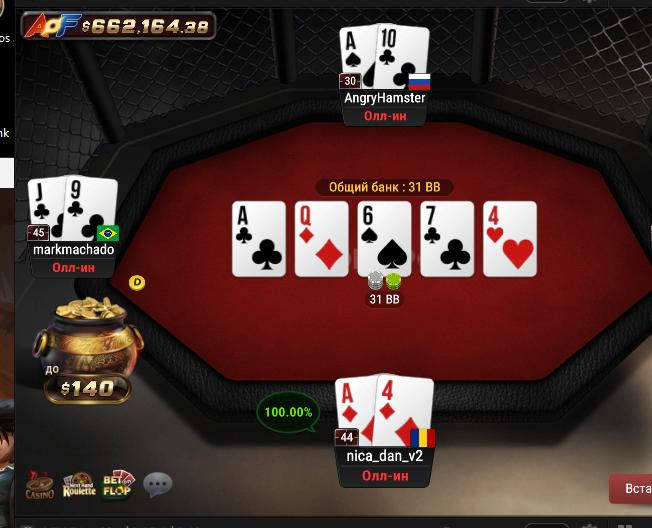10c: (376, 25, 428, 91)
4d: (377, 375, 434, 451)
4h: (484, 203, 536, 276)
6s: (359, 203, 412, 275)
7c: (422, 203, 474, 275)
9c: (65, 176, 116, 241)
Ac: (231, 201, 285, 276)
Ad: (334, 376, 378, 446)
As: (339, 26, 377, 91)
Jc: (27, 179, 65, 240)
Qd: (296, 201, 349, 277)
